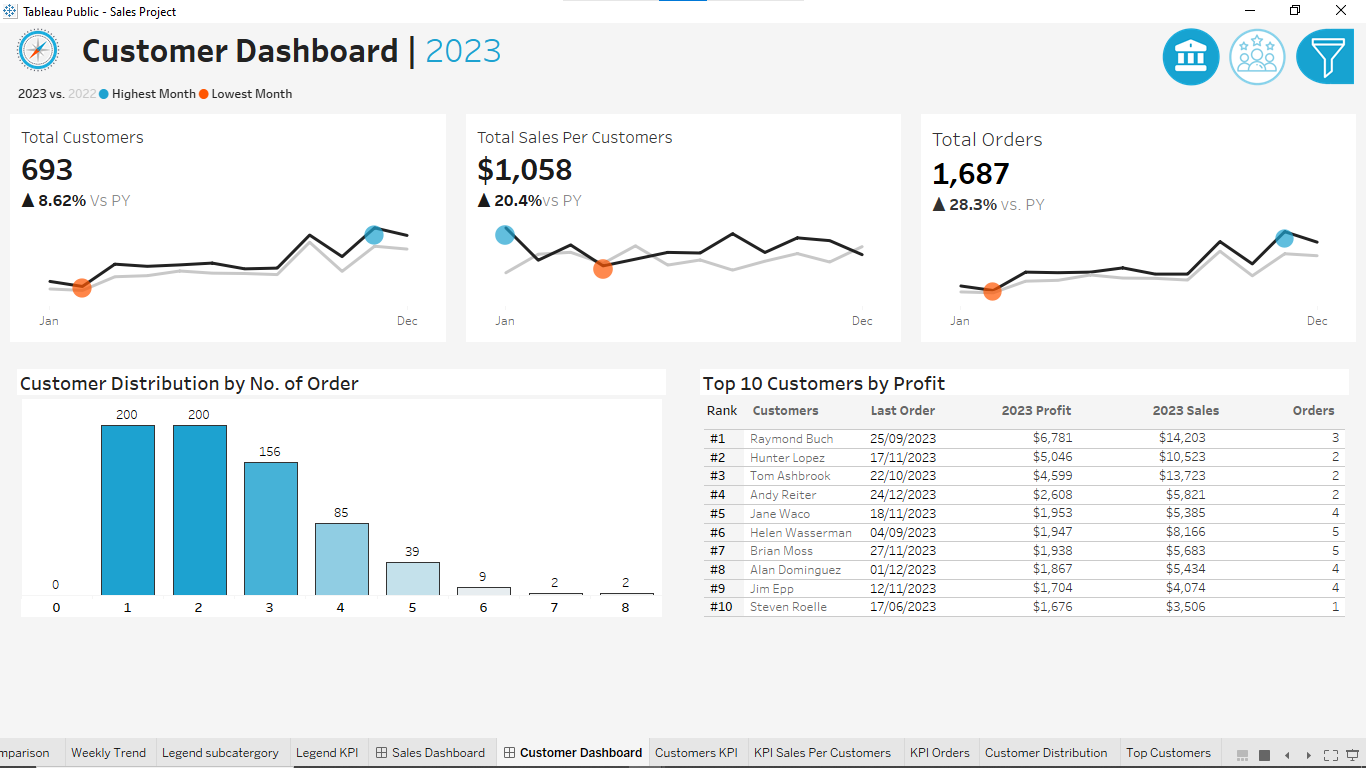

The dashboard page shown, as its layout file describes it:
{"tool":"tableau","page":{"name":"Customer Dashboard","canvas":[1000,1000],"units":"permille","ordinal":0},"visuals":[{"type":"image","param":"Image/Icon - Logo.png","box":[0,0,64.9,83.9]},{"type":"text","box":[64.9,0,642.4,83.9]},{"type":"dashboard-object","box":[847.1,0,51.1,93.4]},{"type":"dashboard-object","box":[898.2,0,50.2,93.4]},{"type":"dashboard-object","box":[948.4,0,52,93.4]},{"type":"blank","box":[831.3,13.6,161.4,96.2]},{"type":"worksheet","title":"Legend KPI","mark":"Automatic","box":[0,83.9,1000,60.1]},{"type":"text","box":[831.3,109.8,161.4,46.1]},{"type":"worksheet","title":"Customers KPI","mark":"Automatic","rows":["Calculation_406168391818027037"],"cols":["Order Date"],"box":[0,144,333.3,376.6]},{"type":"worksheet","title":"KPI Sales Per Customers","mark":"Automatic","rows":["Calculation_406168392415957027"],"cols":["Order Date"],"box":[333.3,144,333.3,376.6]},{"type":"worksheet","title":"KPI Orders","mark":"Automatic","rows":["Calculation_406168392438386734"],"cols":["Order Date"],"box":[666.7,144,333.3,376.6]},{"type":"parameter","param":"[Parameters].[Parameter 1]","box":[831.3,155.8,161.4,82.7]},{"type":"blank","box":[831.3,238.5,161.4,43.4]},{"type":"text","box":[831.3,281.9,161.4,39.3]},{"type":"filter","title":"Customers KPI","param":"[federated.0g9hs9g1u3s81j14i9sfp0thvgp6].[none:Category:nk]","box":[831.3,321.2,161.4,70.5]},{"type":"filter","title":"Customers KPI","param":"[federated.0g9hs9g1u3s81j14i9sfp0thvgp6].[none:Sub-Category:nk]","box":[831.3,391.6,161.4,70.5]},{"type":"text","box":[831.3,462.1,161.4,39.3]},{"type":"filter","title":"Customers KPI","param":"[federated.0g9hs9g1u3s81j14i9sfp0thvgp6].[none:Region:nk]","box":[831.3,501.4,161.4,70.5]},{"type":"text","box":[14.7,547.5,471,41.1]},{"type":"text","box":[515.1,547.5,470.1,41.1]},{"type":"filter","title":"Customers KPI","param":"[federated.0g9hs9g1u3s81j14i9sfp0thvgp6].[none:State:nk]","box":[831.3,571.8,161.4,70.5]},{"type":"worksheet","title":"Customer Distribution","mark":"Automatic","rows":["PY Customers (copy)_406168391814033435"],"cols":["Calculation_467811412396670976"],"box":[14.7,588.6,471,357.6]},{"type":"text","box":[515.1,588.6,39.8,98.1]},{"type":"text","box":[555,588.6,85.7,98.1]},{"type":"text","box":[640.7,588.6,85.7,98.1]},{"type":"text","box":[726.4,588.6,84.9,98.1]},{"type":"blank","box":[811.2,588.6,45.9,98.1]},{"type":"text","box":[857.1,588.6,72.7,98.1]},{"type":"blank","box":[929.9,588.6,27.7,98.1]},{"type":"text","box":[957.6,588.6,27.7,98.1]},{"type":"filter","title":"Customers KPI","param":"[federated.0g9hs9g1u3s81j14i9sfp0thvgp6].[none:City:nk]","box":[831.3,642.3,161.4,70.5]},{"type":"worksheet","title":"Top Customers","mark":"Automatic","rows":["Calculation_467811412400242691","Customer Name","Order Date"],"box":[515.1,686.7,470.1,259.4]}]}

Visuals, with their boxes on the dashboard's canvas, which has no fixed pixel size, in thousandths of its width and height (x1, y1, x2, y2). These are canvas units, not pixel positions in the 1366x768 screenshot, which may show the page scaled, cropped or inside an application window:
image: (0, 0, 65, 84)
text: (65, 0, 707, 84)
dashboard-object: (847, 0, 898, 93)
dashboard-object: (898, 0, 948, 93)
dashboard-object: (948, 0, 1000, 93)
blank: (831, 14, 993, 110)
"Legend KPI" worksheet: (0, 84, 1000, 144)
text: (831, 110, 993, 156)
"Customers KPI" worksheet: (0, 144, 333, 521)
"KPI Sales Per Customers" worksheet: (333, 144, 667, 521)
"KPI Orders" worksheet: (667, 144, 1000, 521)
parameter: (831, 156, 993, 238)
blank: (831, 238, 993, 282)
text: (831, 282, 993, 321)
"Customers KPI" filter: (831, 321, 993, 392)
"Customers KPI" filter: (831, 392, 993, 462)
text: (831, 462, 993, 501)
"Customers KPI" filter: (831, 501, 993, 572)
text: (15, 548, 486, 589)
text: (515, 548, 985, 589)
"Customers KPI" filter: (831, 572, 993, 642)
"Customer Distribution" worksheet: (15, 589, 486, 946)
text: (515, 589, 555, 687)
text: (555, 589, 641, 687)
text: (641, 589, 726, 687)
text: (726, 589, 811, 687)
blank: (811, 589, 857, 687)
text: (857, 589, 930, 687)
blank: (930, 589, 958, 687)
text: (958, 589, 985, 687)
"Customers KPI" filter: (831, 642, 993, 713)
"Top Customers" worksheet: (515, 687, 985, 946)
